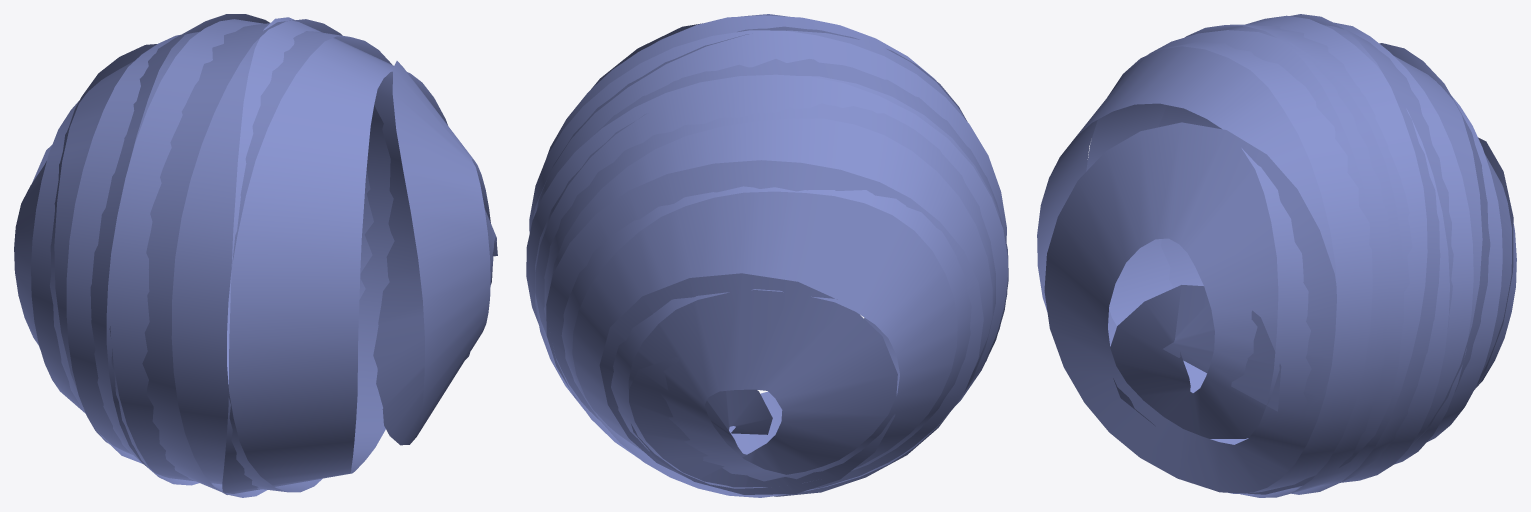
3 views of the same model, side by side, from view 1: azimuth 30°, elevation 25°; view 2: azimuth 150°, elevation 25°; view 3: azimuth 270°, elevation 25° (orthographic).
Visible parts, largest first — view 1: brush_Rainbow_g0_b0; view 2: brush_Rainbow_g0_b0; view 3: brush_Rainbow_g0_b0.
Boxes of the visible parts, x1=… form: brush_Rainbow_g0_b0: x1=14, y1=14, x2=497, y2=497; brush_Rainbow_g0_b0: x1=526, y1=14, x2=1008, y2=497; brush_Rainbow_g0_b0: x1=1037, y1=14, x2=1516, y2=497.
Bounding box in the file's own units: 2.05 × 2.07 × 2.04.
